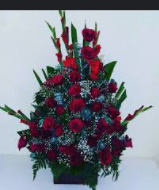RedRose: (67, 98, 86, 114), (81, 45, 97, 61), (66, 84, 85, 97), (81, 25, 96, 41), (68, 118, 85, 131), (100, 149, 113, 166), (16, 133, 29, 149), (68, 154, 84, 167), (111, 135, 122, 153), (88, 100, 104, 112), (62, 143, 78, 155), (86, 136, 100, 149), (44, 76, 61, 86), (42, 114, 54, 128), (106, 82, 120, 94), (112, 114, 125, 126), (69, 70, 80, 83), (48, 148, 58, 162), (62, 54, 74, 65), (54, 104, 67, 114), (55, 121, 64, 135), (90, 86, 101, 97), (28, 124, 38, 136), (123, 137, 132, 149), (46, 96, 55, 107), (36, 144, 47, 152), (109, 105, 117, 115), (97, 118, 105, 126)
